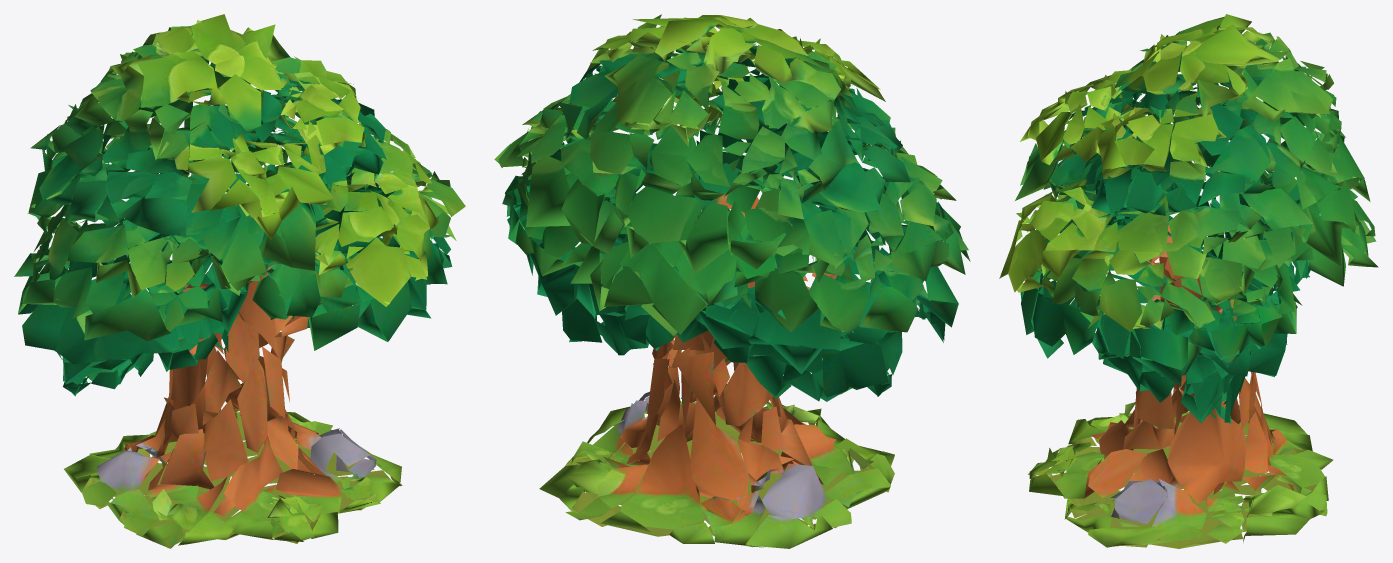
The model's file is tree.glb.
3 renders of one model, left to right at view 1: azimuth 30°, elevation 25°; view 2: azimuth 150°, elevation 25°; view 3: azimuth 270°, elevation 25°, orthographic. The views are drawn at different scales.
Parts seen in each view (by area): view 1: Mesh_0; view 2: Mesh_0; view 3: Mesh_0.
Boxes of the visible parts, box(x1,y1,x2,y2) form: Mesh_0: box(14, 14, 465, 548); Mesh_0: box(494, 14, 970, 548); Mesh_0: box(999, 14, 1378, 548).
Size of the model in its own units: 1.9 by 1.93 by 1.47.
Materials: 1 (1 with a texture image).
